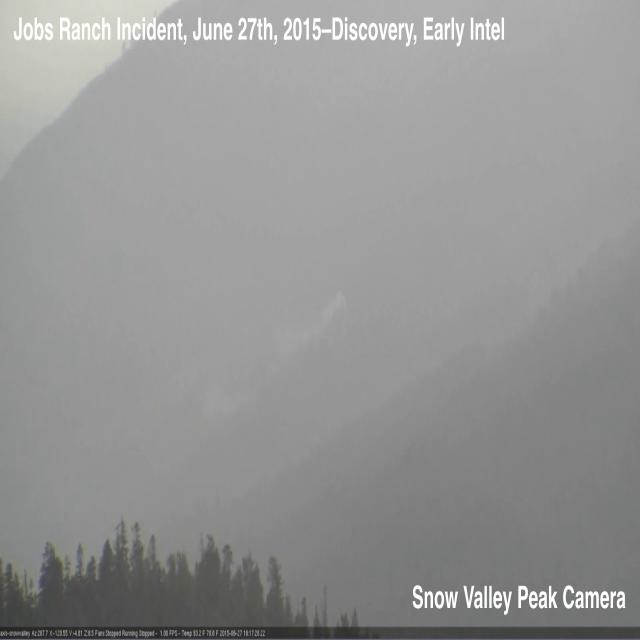smoke: (200, 288, 345, 428)
